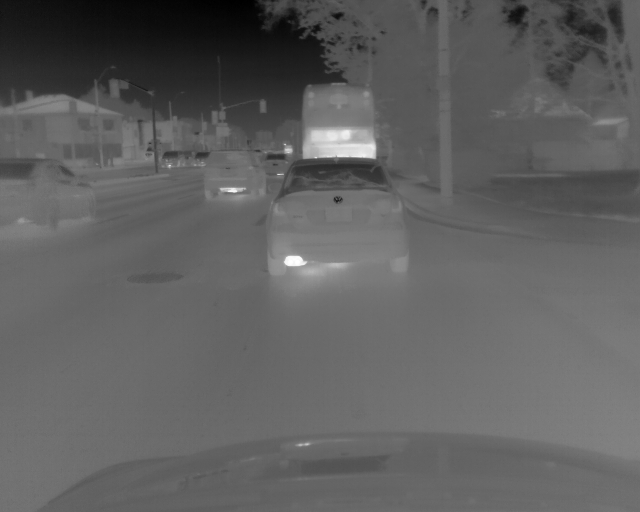car: (265, 158, 411, 277), (1, 158, 97, 232), (299, 82, 376, 161), (203, 150, 268, 202), (262, 149, 288, 176), (160, 151, 184, 168), (193, 150, 208, 166)
